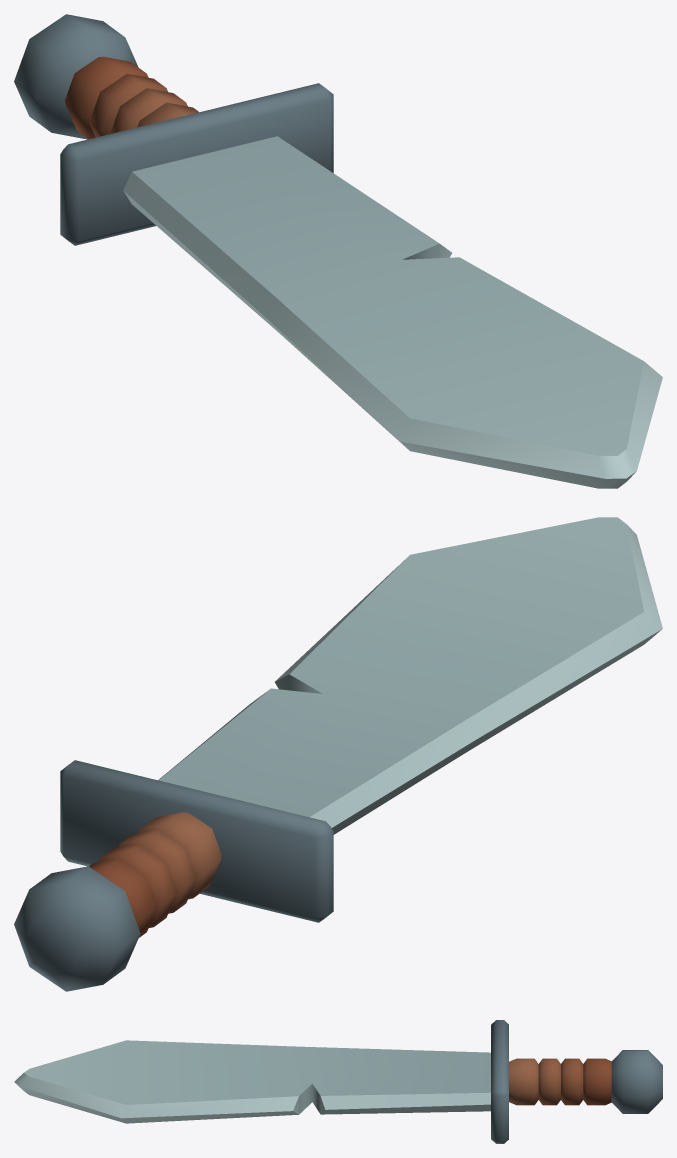
Rendered from sword_01.fbx.
The picture shows the model from 3 angles, top to bottom: view 1: azimuth 30°, elevation 25°; view 2: azimuth 150°, elevation 25°; view 3: azimuth 270°, elevation 25°; orthographic projection. The views are drawn at different scales.
Visible parts, largest first — view 1: sword_01; view 2: sword_01; view 3: sword_01.
Part boxes in pixels (x1,y1,x2,y2): sword_01: (14, 14, 662, 488); sword_01: (14, 517, 662, 991); sword_01: (14, 1020, 662, 1143).
Bounding box in the file's own units: 0.2279 × 0.0894 × 0.8489.
3 materials, 3 textured.
